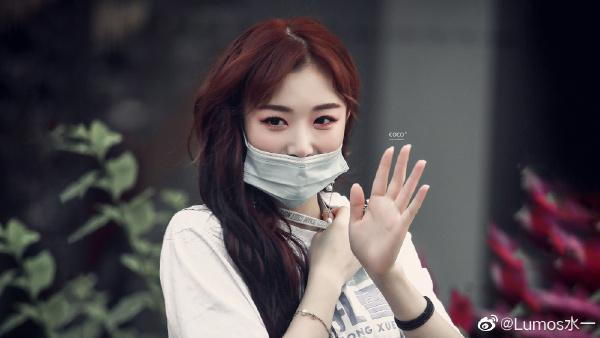WRONG: (247, 88, 346, 204)
